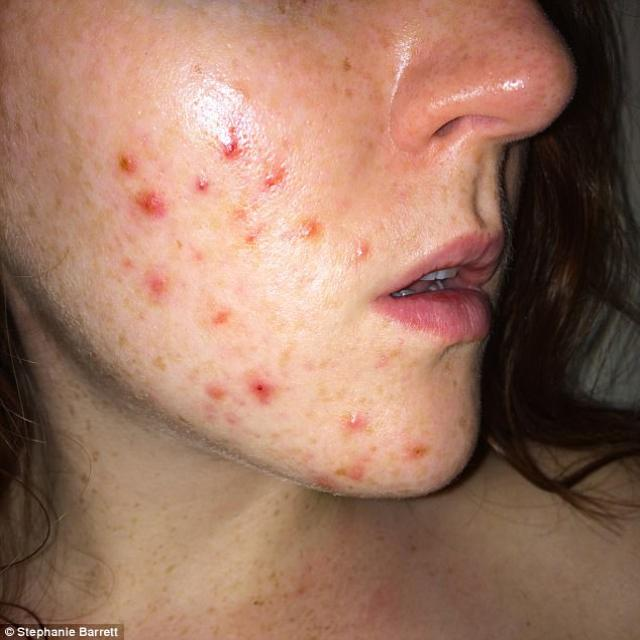acne: (37, 64, 372, 423)
